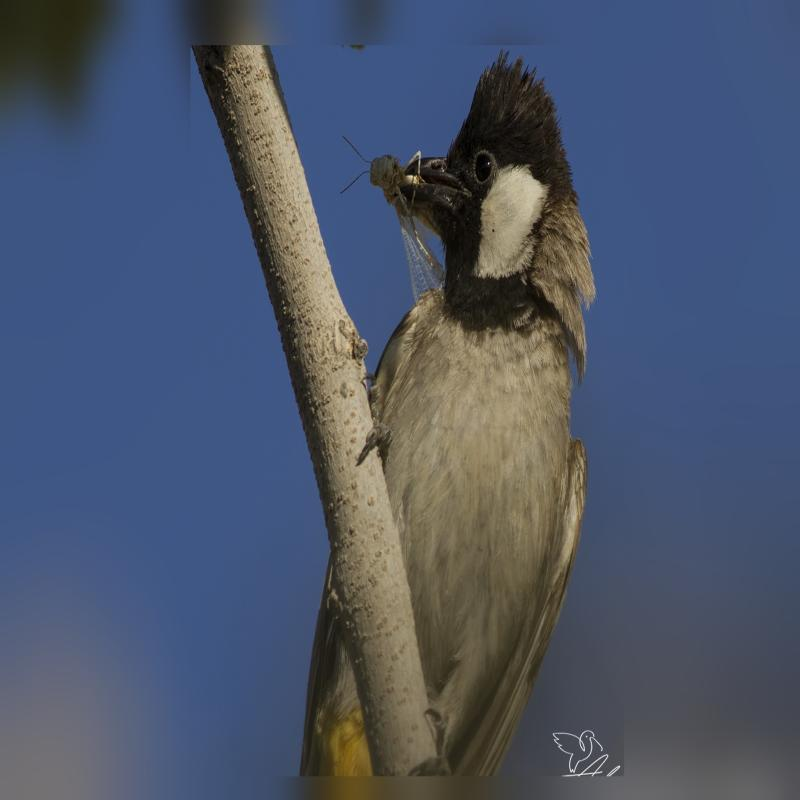white-eared bulbul: (293, 58, 590, 782)
